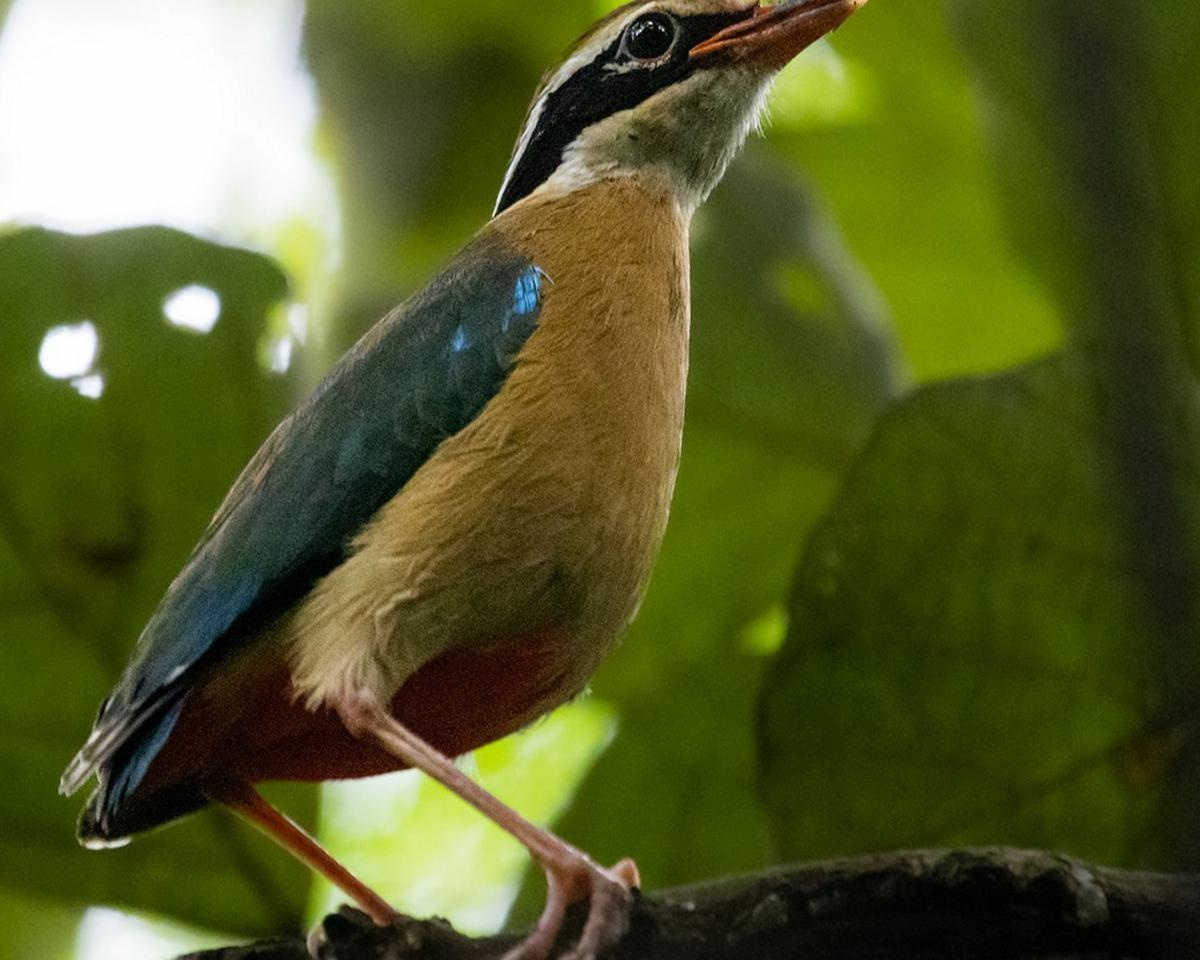pitta: (44, 1, 887, 937)
